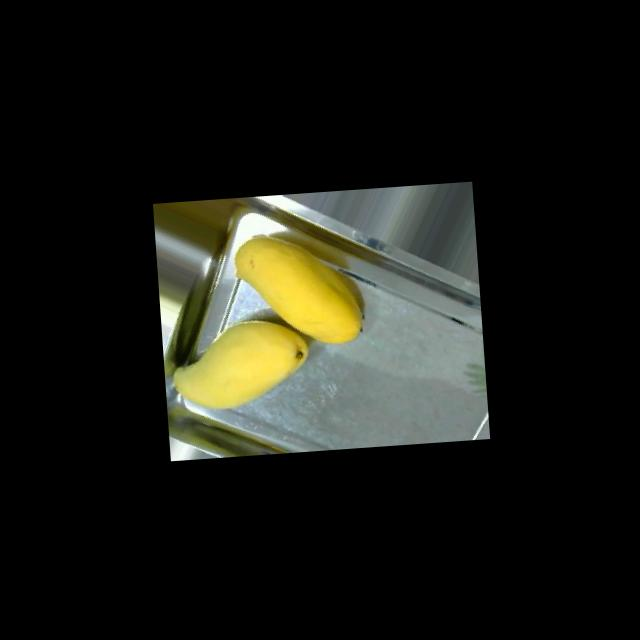Mango: (231, 228, 365, 351), (168, 316, 312, 412)
